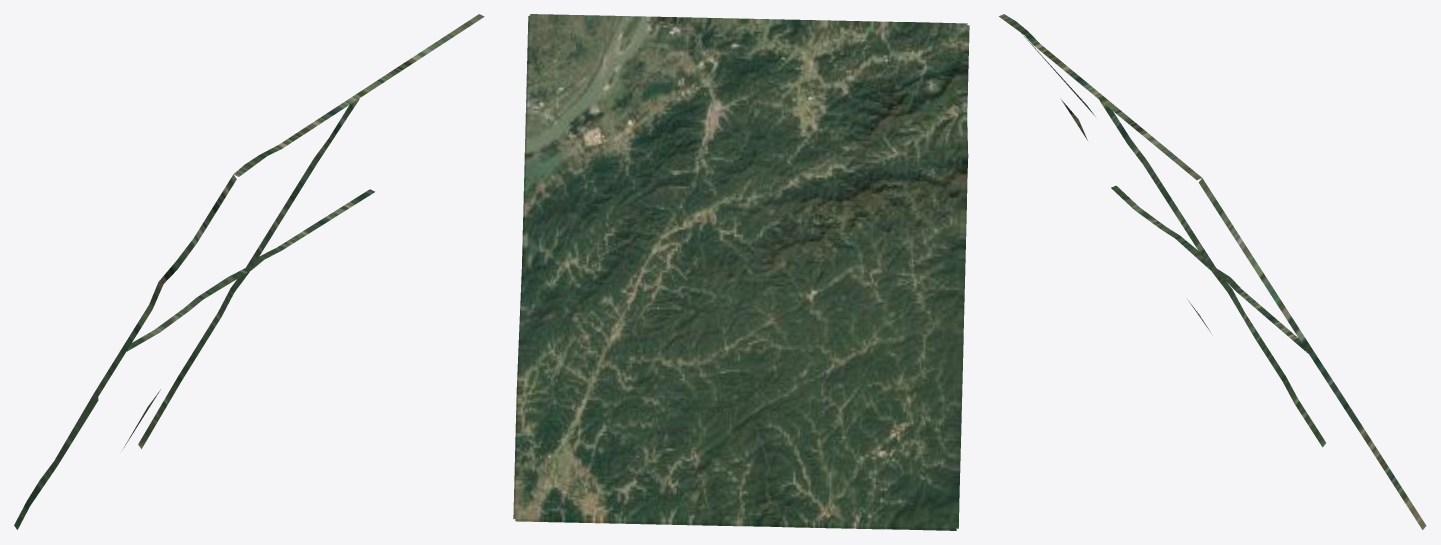
The picture shows the model from 3 angles, left to right: view 1: azimuth 30°, elevation 25°; view 2: azimuth 150°, elevation 25°; view 3: azimuth 270°, elevation 25°; orthographic projection. The views are drawn at different scales.
Bounding box in the file's own units: 79075 × 68788 × 66615.
Materials: 1 (1 with a texture image).
